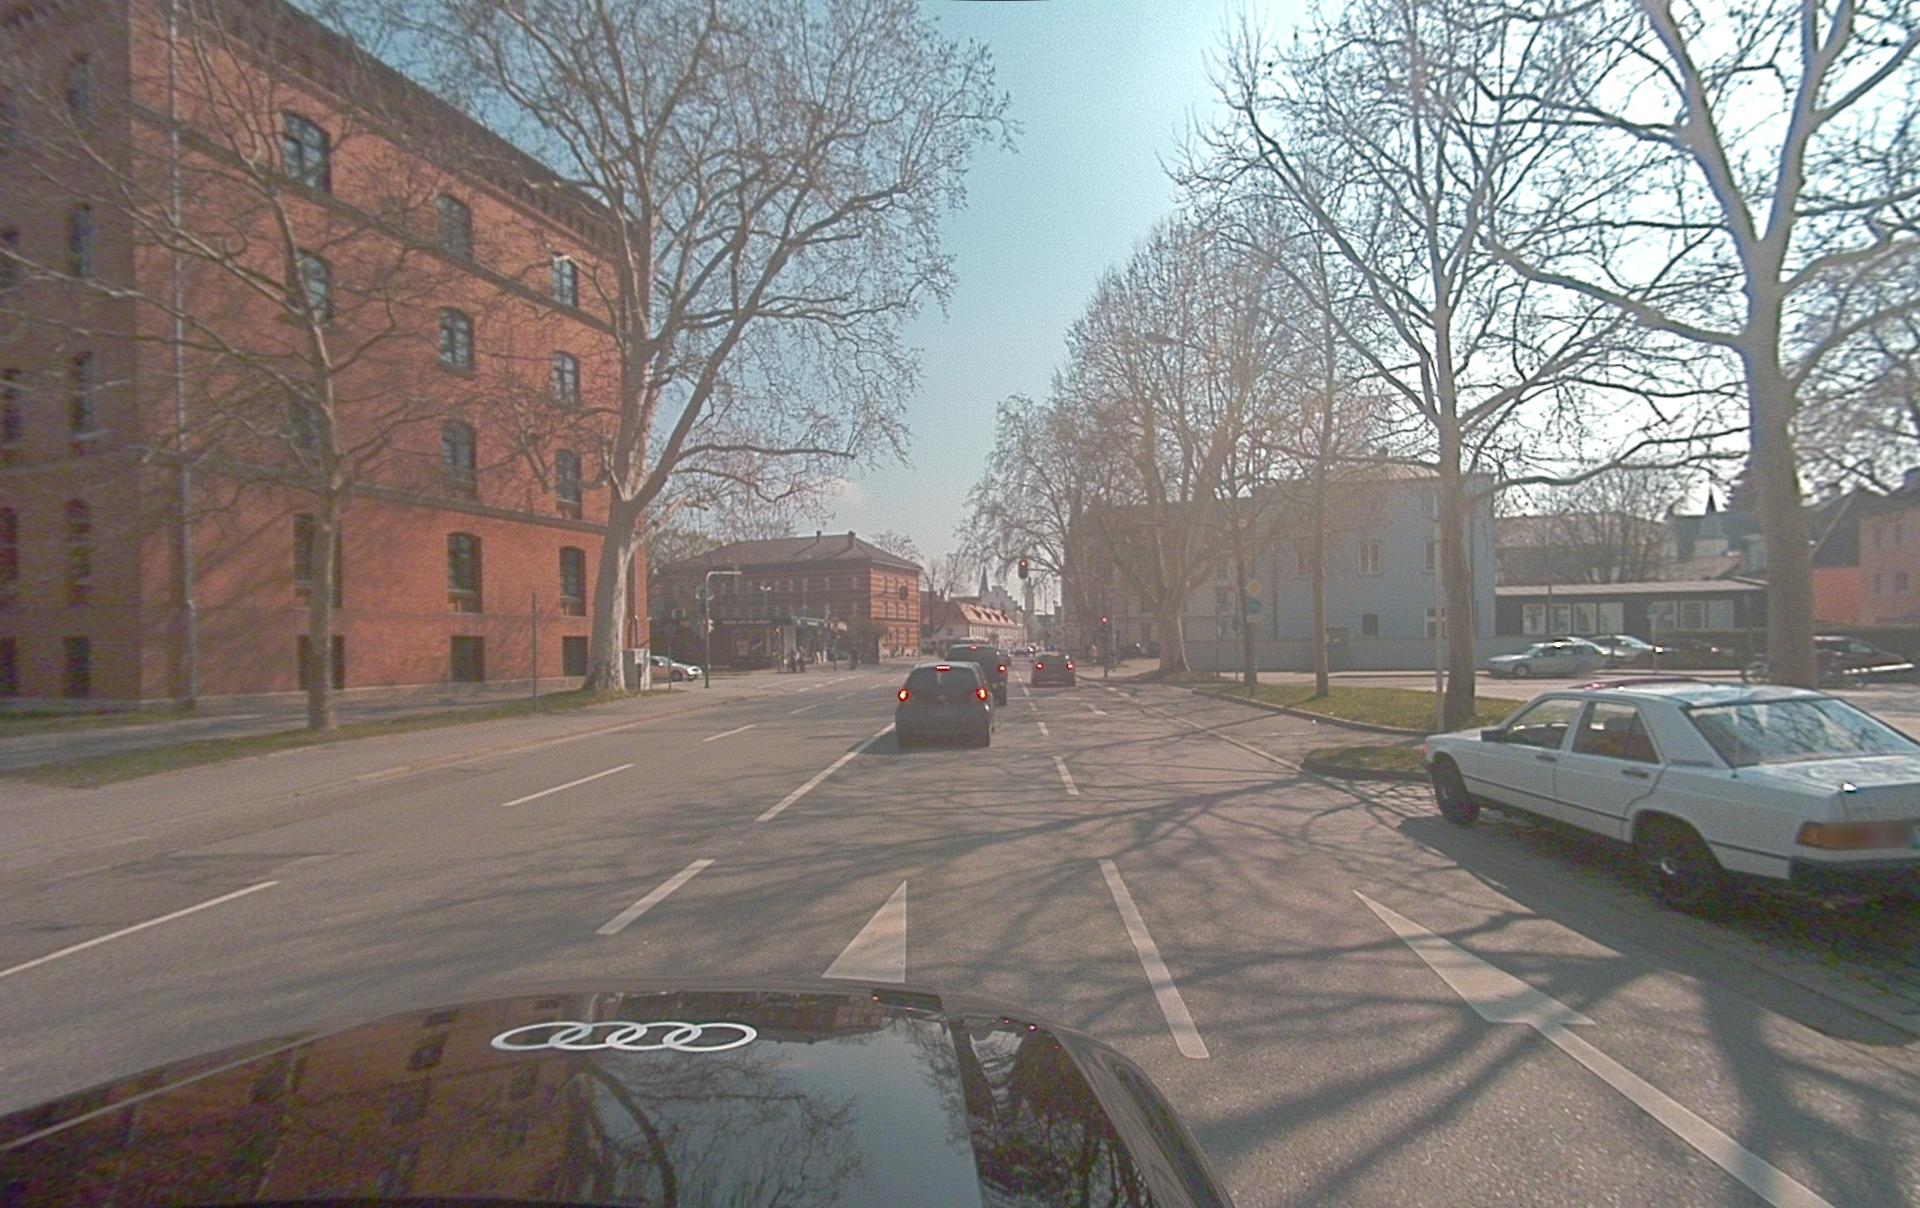car: (1, 980, 1237, 1208), (1422, 676, 1920, 913), (1745, 635, 1917, 688), (895, 661, 995, 747), (1814, 635, 1916, 685), (1487, 637, 1607, 679), (946, 643, 1010, 706), (1587, 633, 1677, 665), (1031, 650, 1075, 688), (648, 654, 703, 682)
